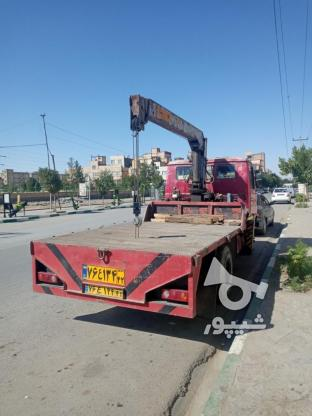car: (82, 263, 126, 284), (84, 286, 125, 299)
